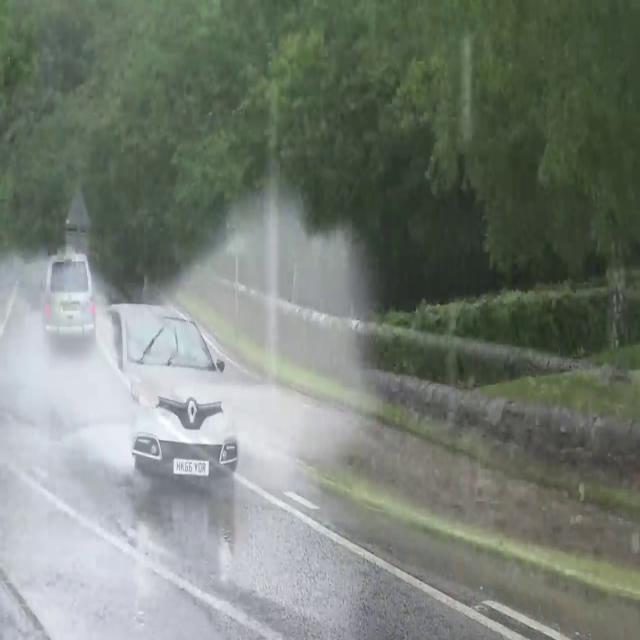license-plate-annotation: (173, 459, 209, 476)
